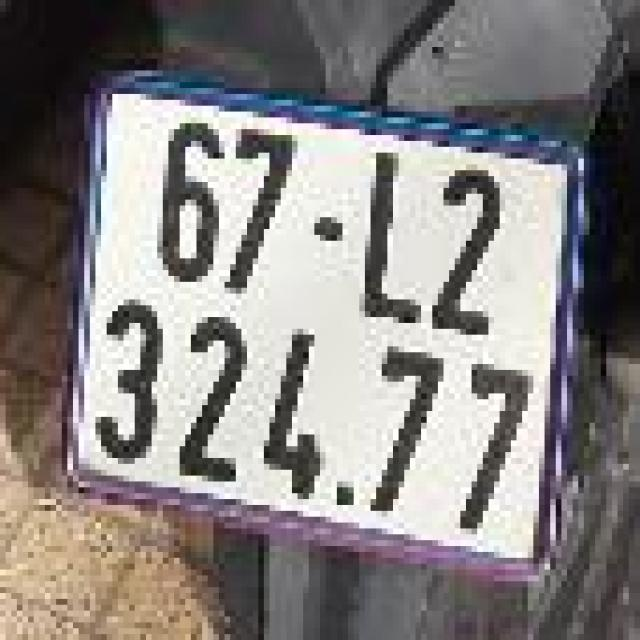2: (174, 308, 253, 491), (438, 156, 511, 344)
3: (90, 290, 163, 472)
4: (264, 308, 337, 508)
6: (149, 108, 227, 296)
7: (359, 329, 449, 528), (455, 350, 539, 538), (228, 120, 300, 302)
L: (348, 144, 427, 332)
